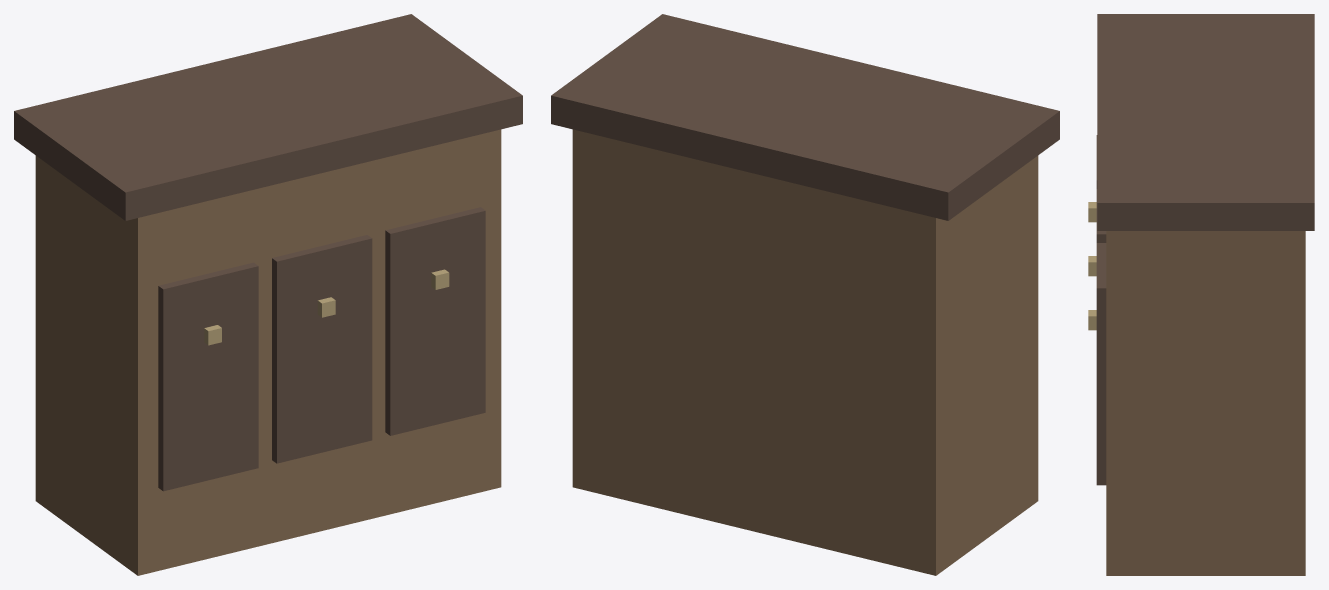
File: victorian_sideboard_hero_pbr_orm.glb
3 views of the same model, side by side, from view 1: azimuth 30°, elevation 25°; view 2: azimuth 150°, elevation 25°; view 3: azimuth 270°, elevation 25° (orthographic). The views are drawn at different scales.
Parts seen in each view (by area): view 1: geometry_0; view 2: geometry_0; view 3: geometry_0.
Part boxes in pixels (x1,y1,x2,y2): geometry_0: (14, 14, 522, 575); geometry_0: (551, 14, 1059, 575); geometry_0: (1088, 14, 1314, 575).
Bounding box in the file's own units: 1.75 × 1.64 × 0.885.
